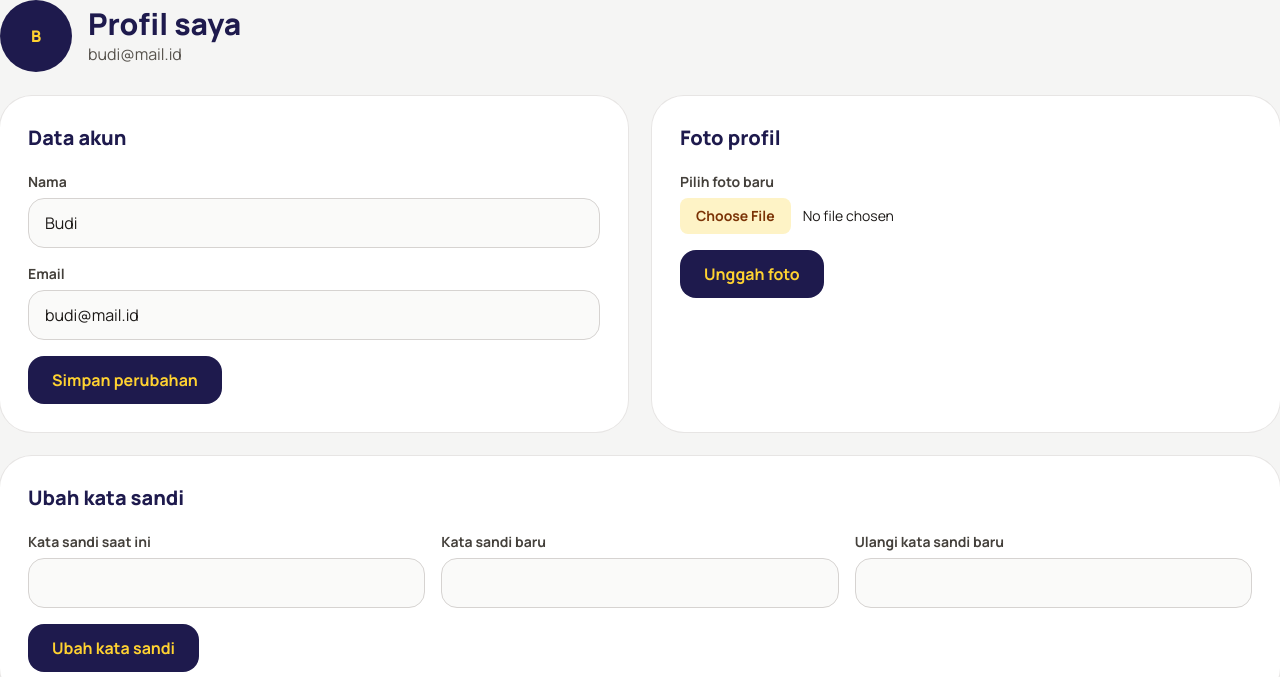
ProfilePage: data akun › menolak nama dan email yang tidak valid
Replace the text in the field labelled "Nama" with "ab" at x=314, y=223, box [28,198,600,248]
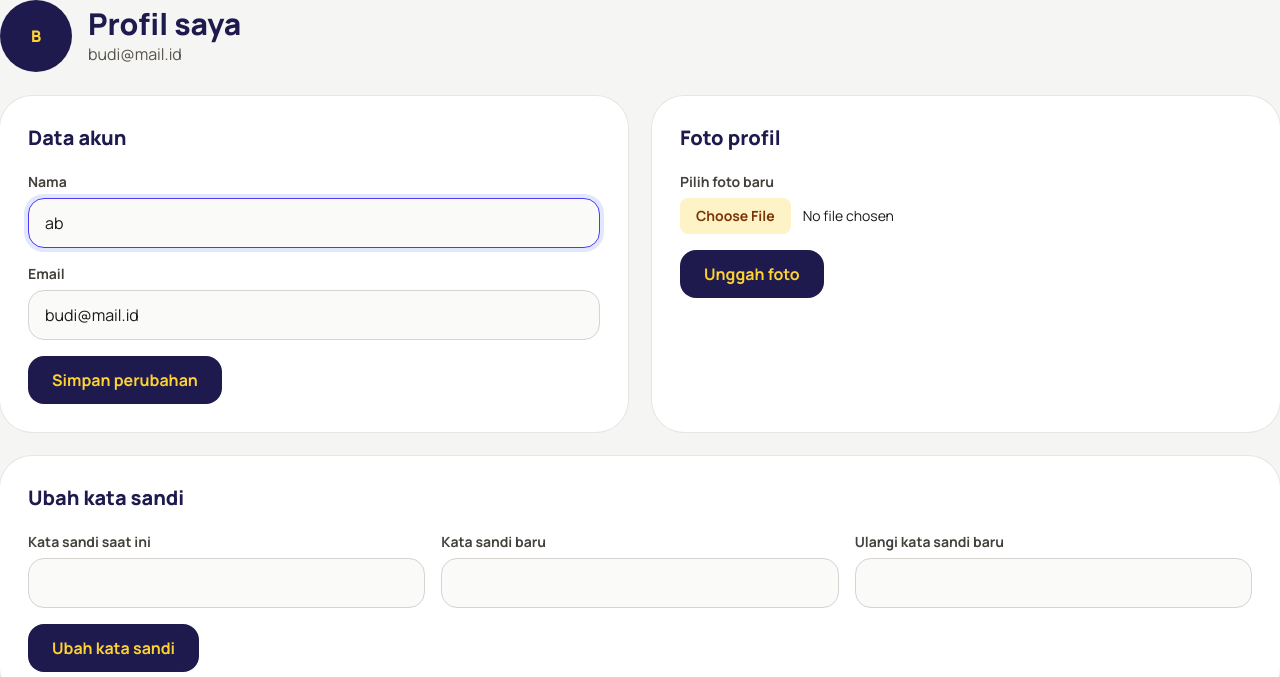
Replace the text in the field labelled "Email" with "salah" at x=314, y=315, box [28,290,600,340]
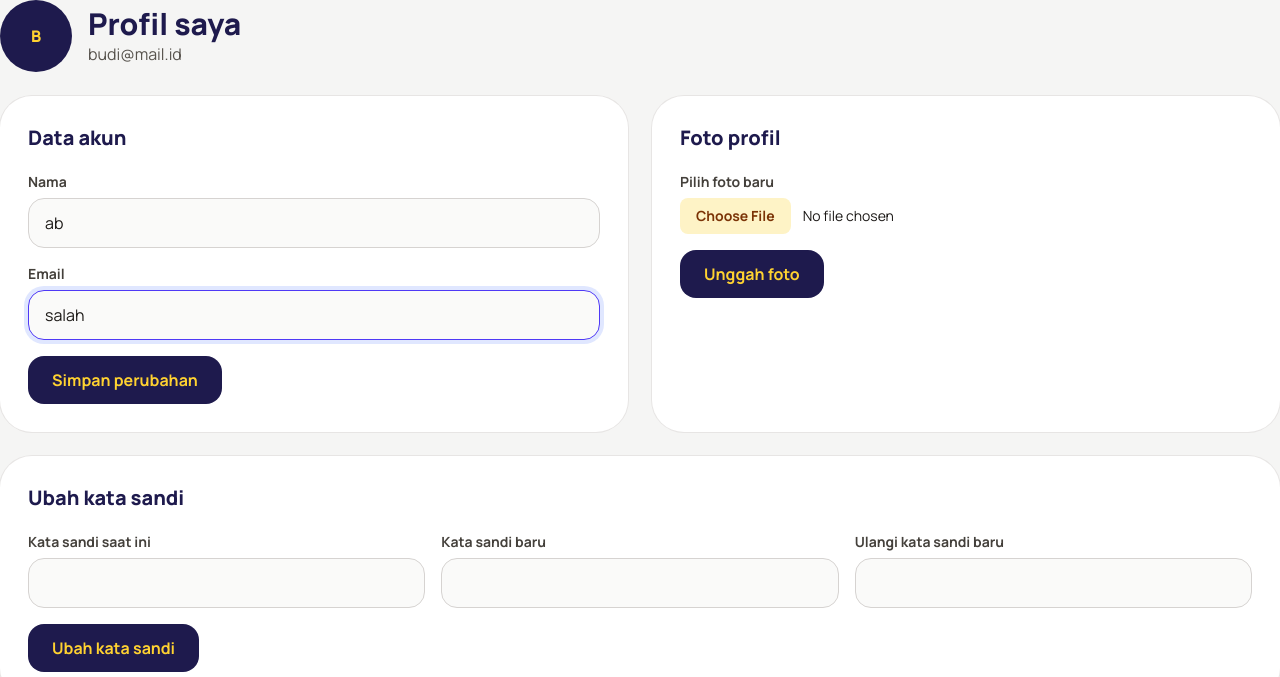
Click the button "Simpan perubahan" at x=125, y=380, box [28,356,222,404]
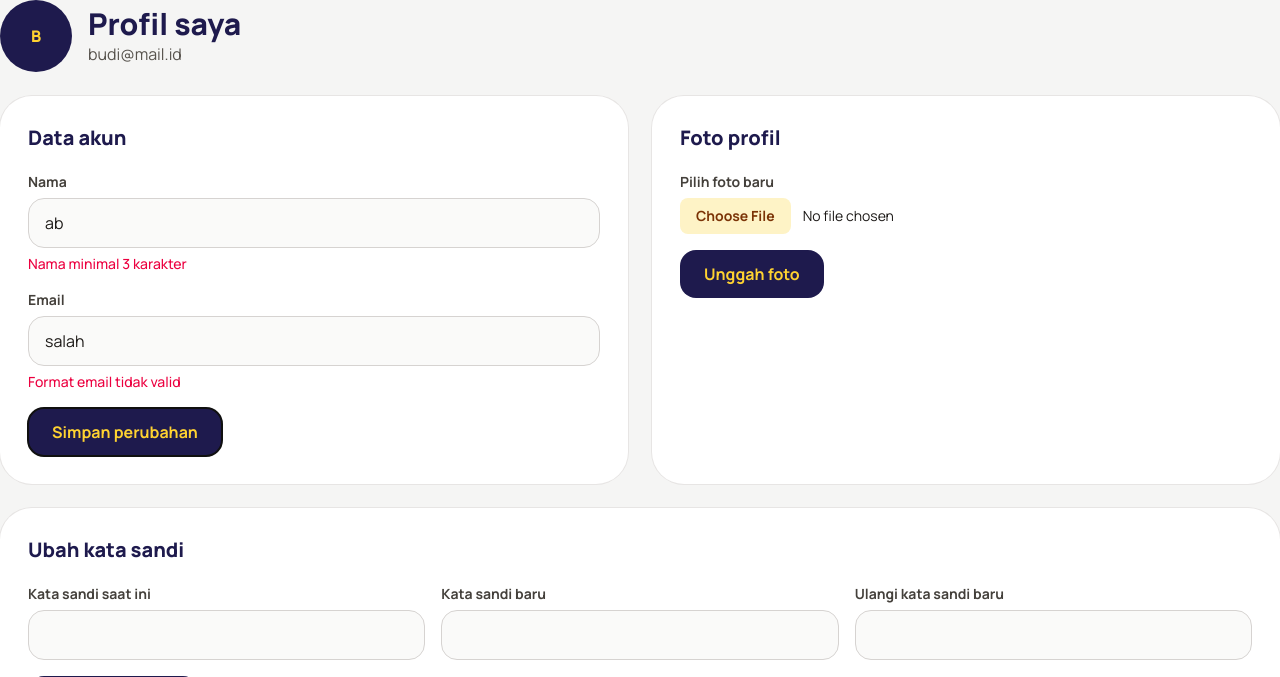
Expected: the text "Nama minimal 3 karakter" is shown, [28,254,187,273]
Expected: the text "Format email tidak valid" is shown, [28,372,181,391]
